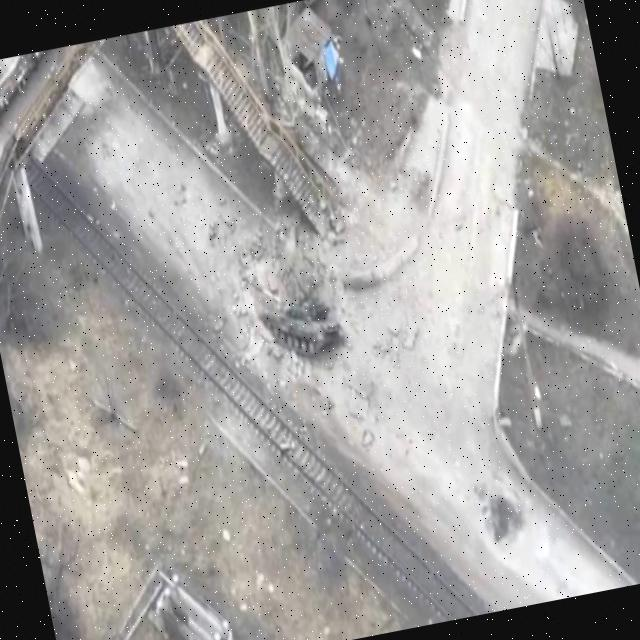MBT: (238, 254, 348, 370)
